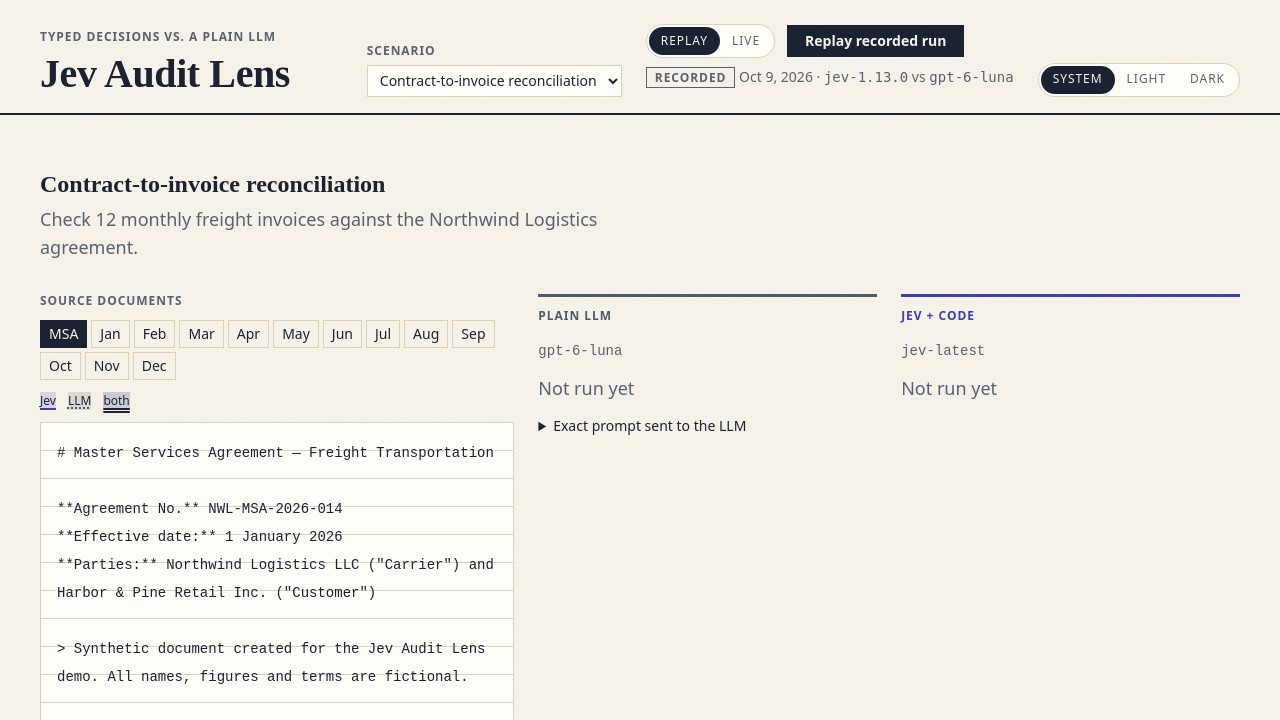
Scenario: App › says why a run stopped, keeping what arrived before it
expect the heading "Contract-to-invoice reconciliation" is shown: met, box [40,171,386,197]
expect the text "Recorded" is shown: met, box [646,67,736,88]
Click the button "Replay recorded run". click: [876, 41]
box: [787,25,964,57]
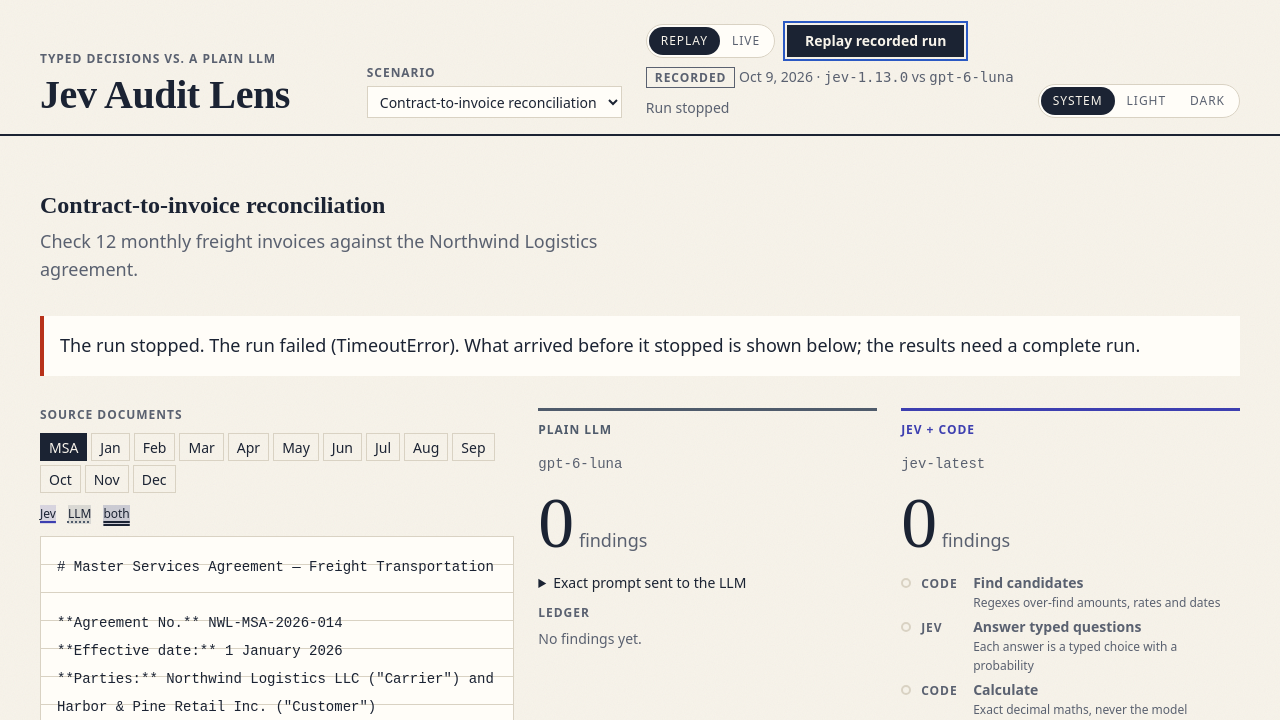
expect the message that starts with "The run stopped." shows "The run stopped. The run failed (TimeoutError).": met, box [40,316,1240,376]
expect the message "Run stopped" is shown: met, box [646,98,729,117]
